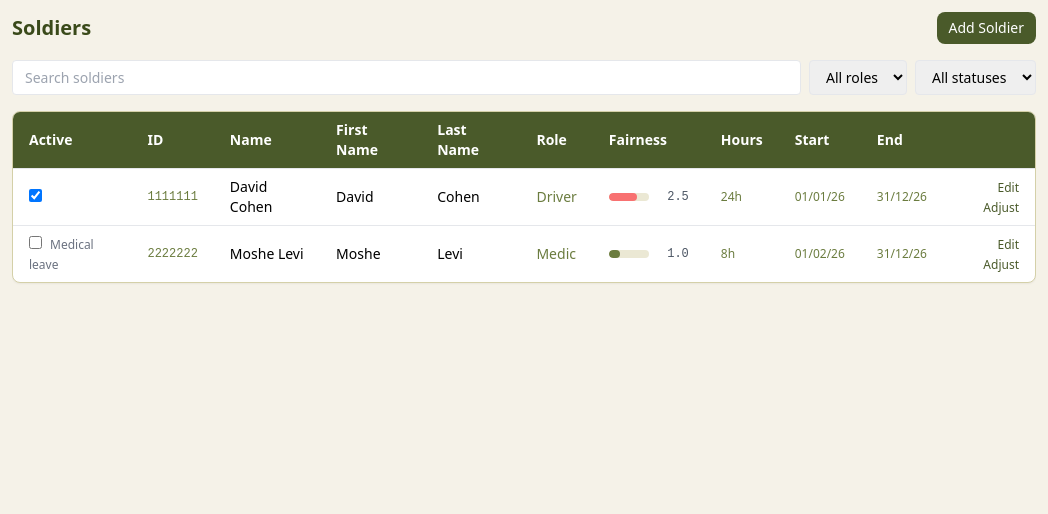
SoldiersPage › disables Save when a date field is cleared in edit form
Click the button "Edit" in the row of "1111111": {"x": 1008, "y": 188} [998,180,1019,196]
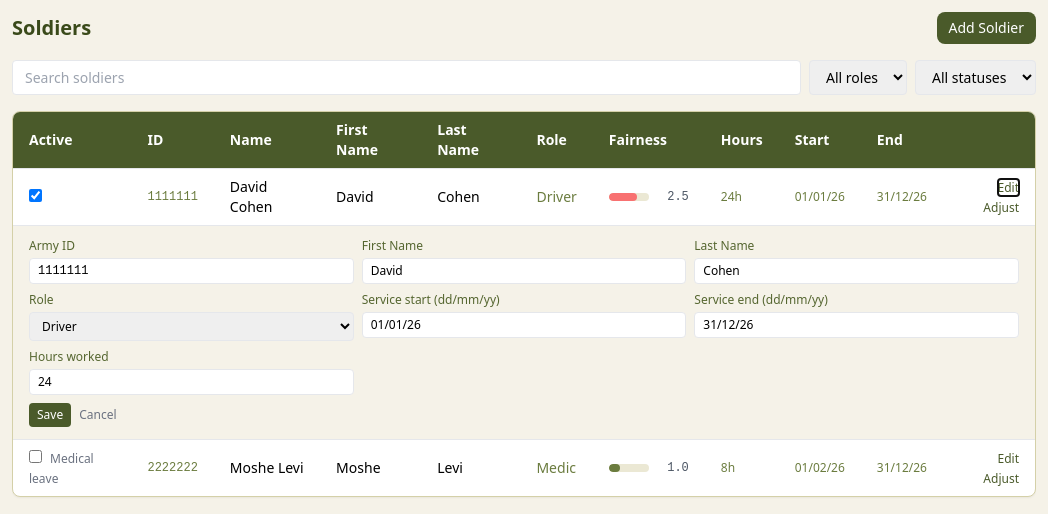
Clear the field showing "01/01/26" below "Service start (dd/mm/yy)": {"x": 524, "y": 325} [362,312,686,338]
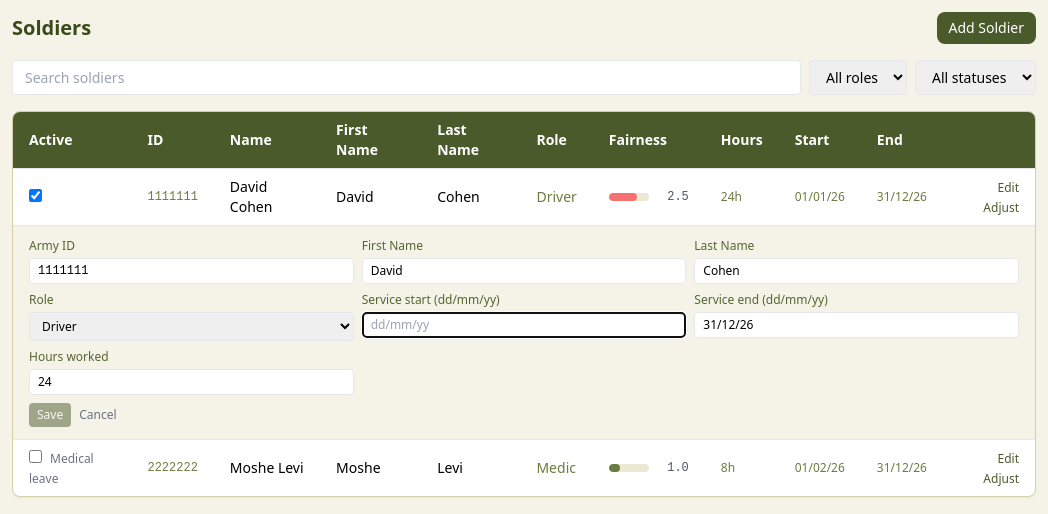
expect the button "Save" is disabled: met, box [29,403,71,427]
